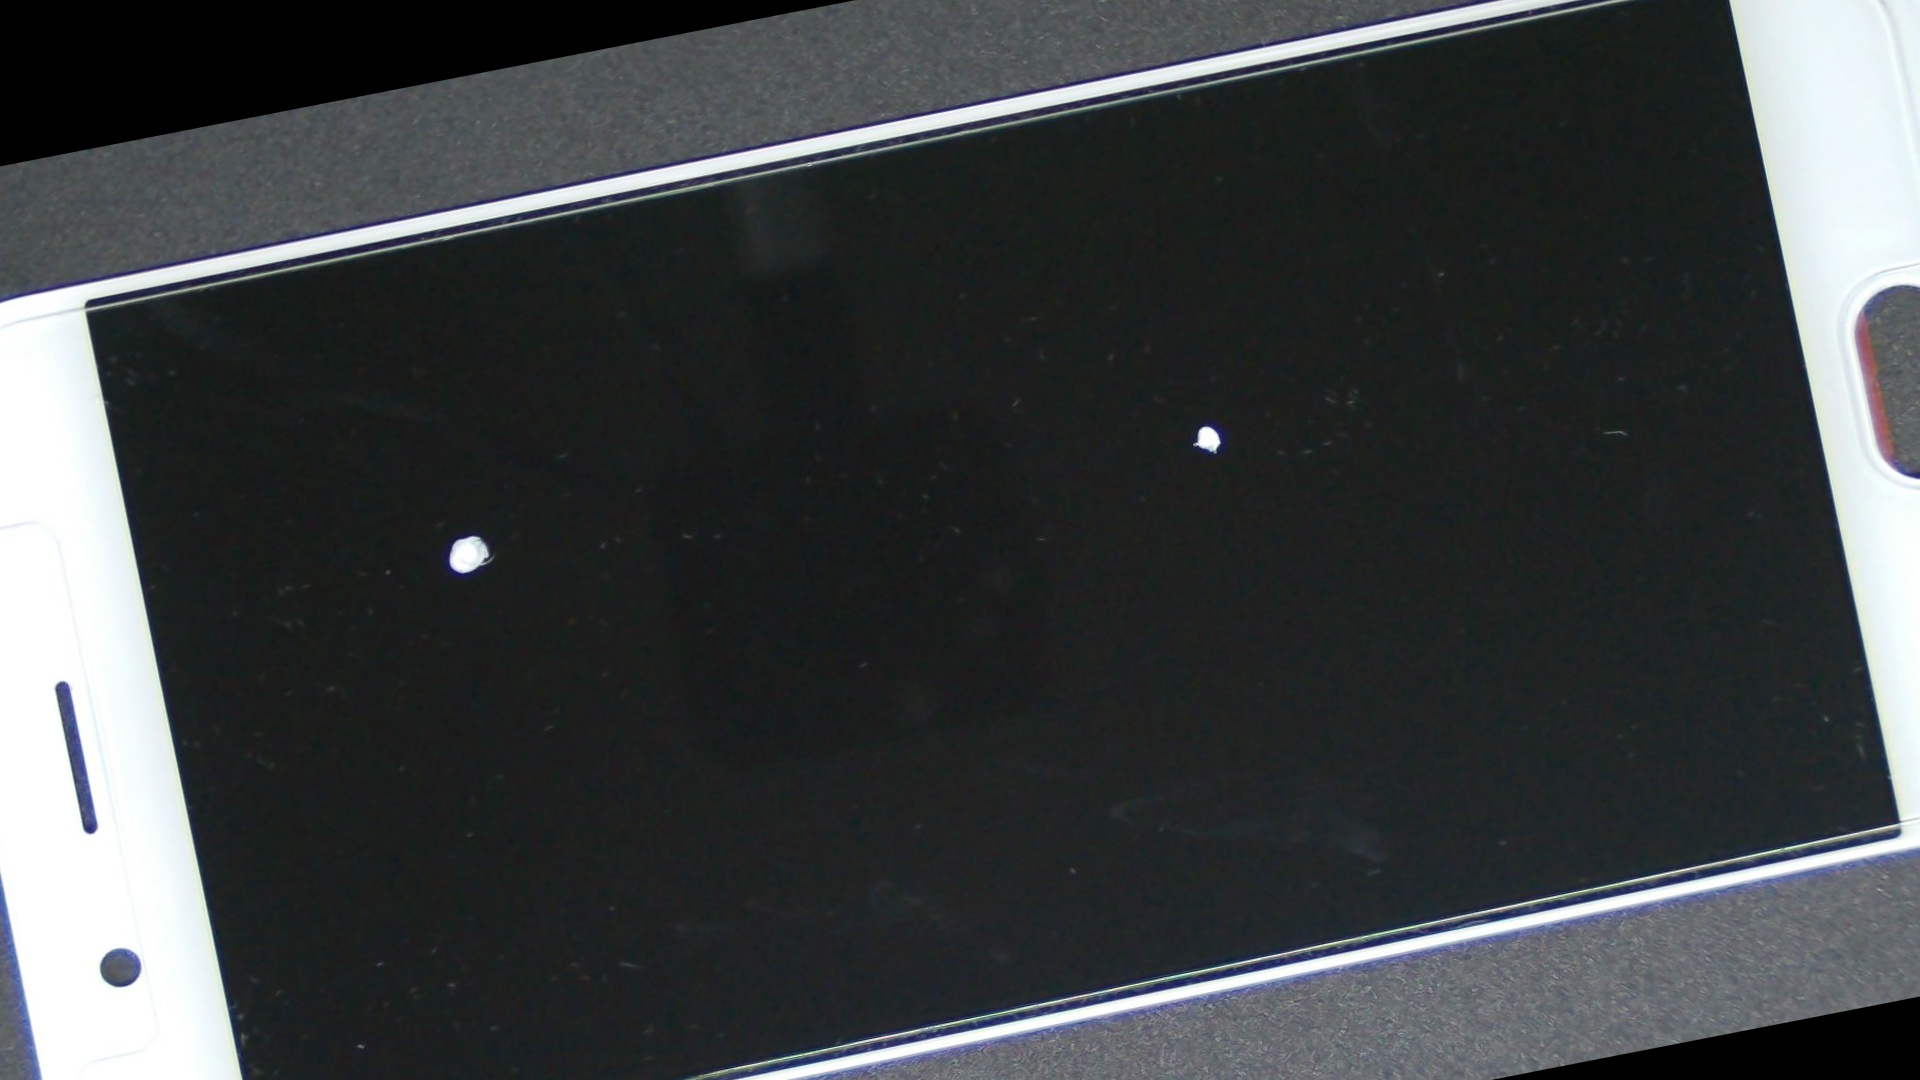oil: (485, 57, 1920, 794), (113, 257, 803, 819)
